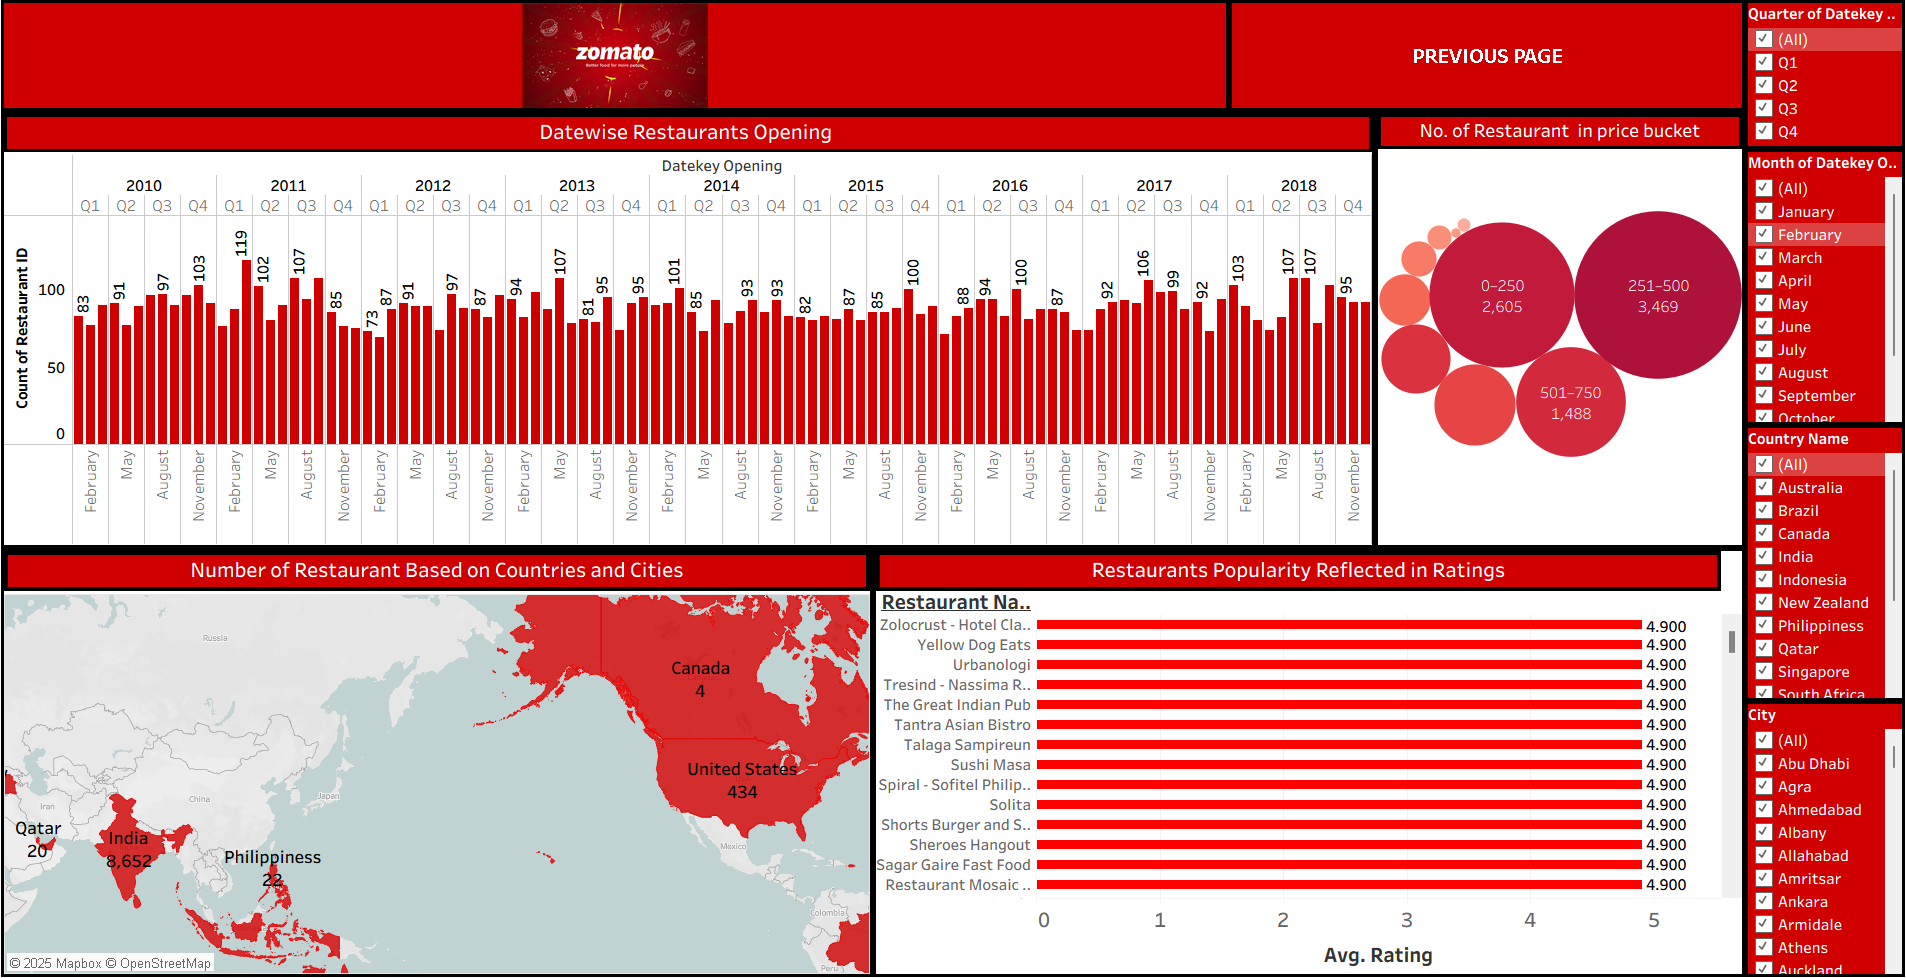

Layout of this report page (visuals, bound fields, positions):
{"tool":"tableau","page":{"name":"Dashboard 2","canvas":[1000,1000],"units":"permille","ordinal":1},"visuals":[{"type":"image","param":"Image/zomato.jpg","box":[4.8,10,166.7,111.8]},{"type":"dashboard-object","box":[171.5,10,727.1,111.8]},{"type":"filter","title":"Sheet 4","param":"[federated.1gakelx1q0lv861fyiybo1odb1no].[qr:Datekey_Opening:ok]","box":[898.6,10,96.6,186]},{"type":"worksheet","title":"Sheet 4","mark":"Bar","rows":["RestaurantID"],"cols":["Datekey_Opening","Datekey_Opening","Datekey_Opening"],"box":[4.8,121.8,675,438]},{"type":"worksheet","title":"Sheet 6","mark":"Circle","box":[679.9,121.8,218.8,438]},{"type":"filter","title":"Sheet 4","param":"[federated.1gakelx1q0lv861fyiybo1odb1no].[mn:Datekey_Opening:ok]","box":[898.6,196,96.6,264.7]},{"type":"filter","title":"Sheet 3","param":"[federated.1gakelx1q0lv861fyiybo1odb1no].[none:Country Name:nk]","box":[898.6,460.7,96.6,264.7]},{"type":"worksheet","title":"Sheet 3","mark":"Multipolygon","box":[4.8,559.8,446.9,430.2]},{"type":"worksheet","title":"Sheet.5","mark":"Bar","rows":["RestaurantName"],"cols":["Rating"],"box":[451.7,559.8,446.9,430.2]},{"type":"filter","title":"Sheet 3","param":"[federated.1gakelx1q0lv861fyiybo1odb1no].[none:City:nk]","box":[898.6,725.3,96.6,264.7]}]}

Visuals, with their boxes on the dashboard's canvas, which has no fixed pixel size, in thousandths of its width and height (x1, y1, x2, y2). These are canvas units, not pixel positions in the 1906x978 screenshot, which may show the page scaled, cropped or inside an application window:
image: left=5, top=10, right=172, bottom=122
dashboard-object: left=172, top=10, right=899, bottom=122
"Sheet 4" filter: left=899, top=10, right=995, bottom=196
"Sheet 4" worksheet (Bar marks): left=5, top=122, right=680, bottom=560
"Sheet 6" worksheet (Circle marks): left=680, top=122, right=899, bottom=560
"Sheet 4" filter: left=899, top=196, right=995, bottom=461
"Sheet 3" filter: left=899, top=461, right=995, bottom=725
"Sheet 3" worksheet (Multipolygon marks): left=5, top=560, right=452, bottom=990
"Sheet.5" worksheet (Bar marks): left=452, top=560, right=899, bottom=990
"Sheet 3" filter: left=899, top=725, right=995, bottom=990
